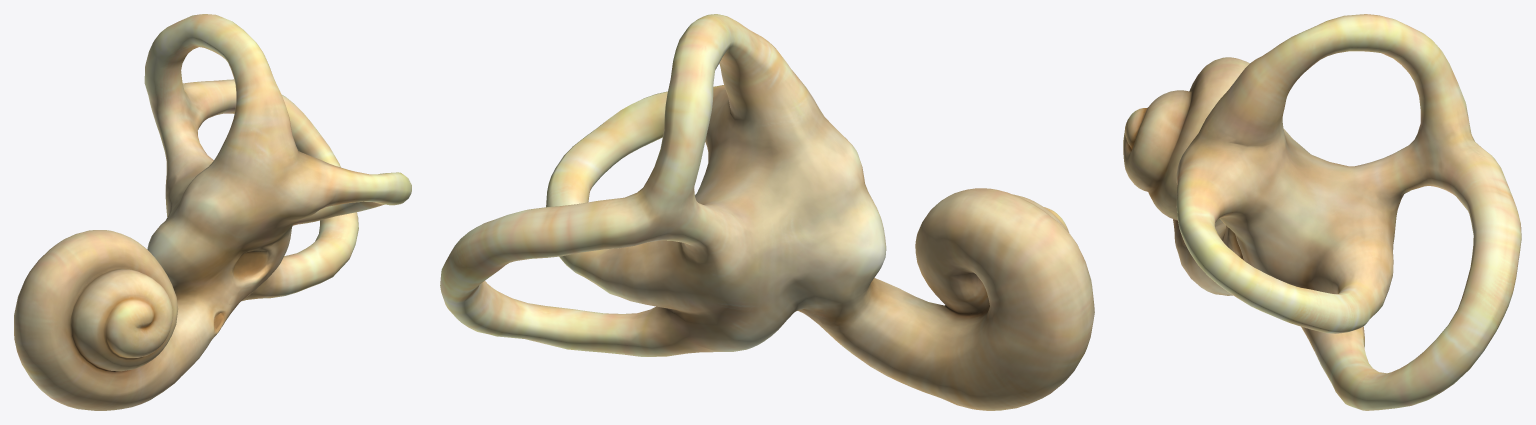
File: rsnail.glb
3 renders of one model, left to right at view 1: azimuth 30°, elevation 25°; view 2: azimuth 150°, elevation 25°; view 3: azimuth 270°, elevation 25°, orthographic. The views are drawn at different scales.
Visible parts, largest first — view 1: aaaaa; view 2: aaaaa; view 3: aaaaa.
Part boxes in pixels (x1,y1,x2,y2): aaaaa: (14, 14, 411, 410); aaaaa: (440, 14, 1094, 410); aaaaa: (1123, 14, 1521, 410).
Bounding box in the file's own units: 8.7 × 6.08 × 6.22.
1 material, 1 textured.
